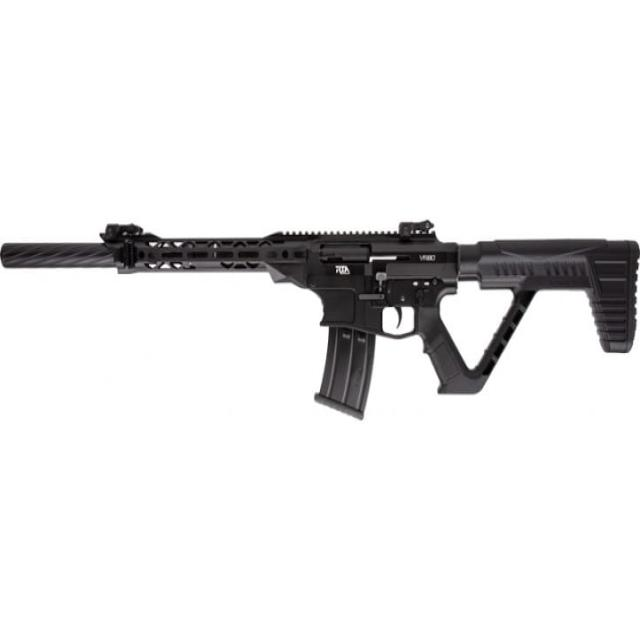Rifle: (0, 223, 640, 422)
